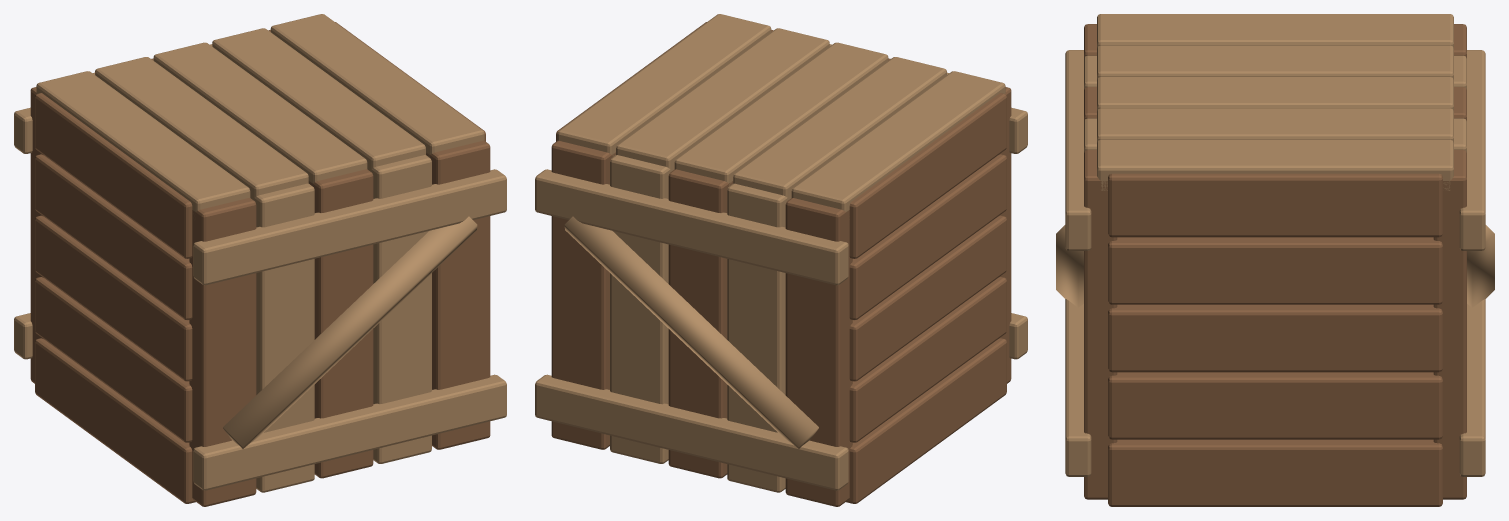
The model's file is cargo-crate.glb.
3 renders of one model, left to right at view 1: azimuth 30°, elevation 25°; view 2: azimuth 150°, elevation 25°; view 3: azimuth 270°, elevation 25°, orthographic. The views are drawn at different scales.
Visible parts, largest first — view 1: cargo-crate__woodlight, cargo-crate__wood; view 2: cargo-crate__woodlight, cargo-crate__wood; view 3: cargo-crate__wood, cargo-crate__woodlight.
Part boxes in pixels (<box>): cargo-crate__woodlight: <box>14,14,506,492</box>; cargo-crate__wood: <box>30,22,490,506</box>; cargo-crate__woodlight: <box>535,14,1027,492</box>; cargo-crate__wood: <box>551,22,1011,506</box>; cargo-crate__wood: <box>1084,24,1466,506</box>; cargo-crate__woodlight: <box>1056,14,1494,476</box>.
Size of the model in its own units: 1.04 by 1 by 1.18.
